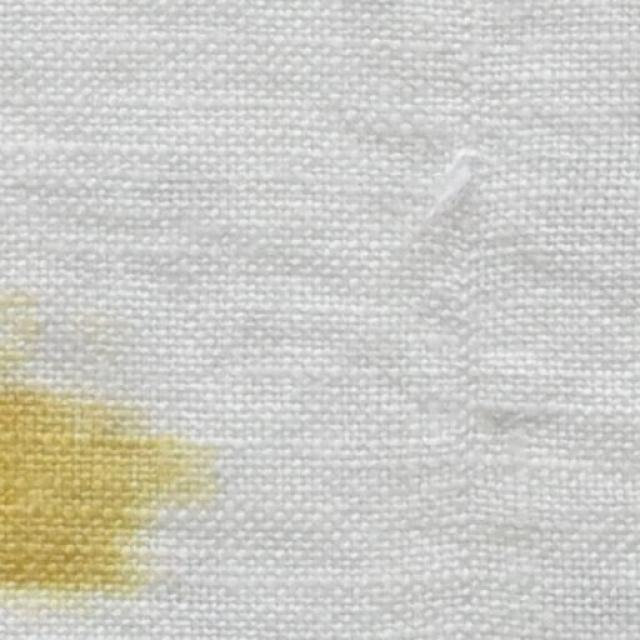Knot: (422, 148, 482, 218)
Stain: (0, 375, 195, 602)
